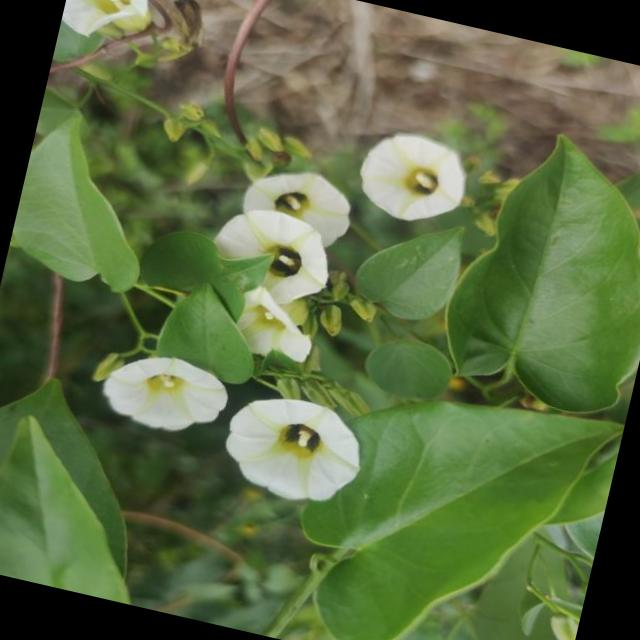ipomoea: (212, 381, 378, 516), (200, 195, 345, 316), (92, 339, 238, 446), (347, 120, 480, 236), (232, 154, 364, 255), (225, 281, 327, 371), (60, 0, 168, 53)
